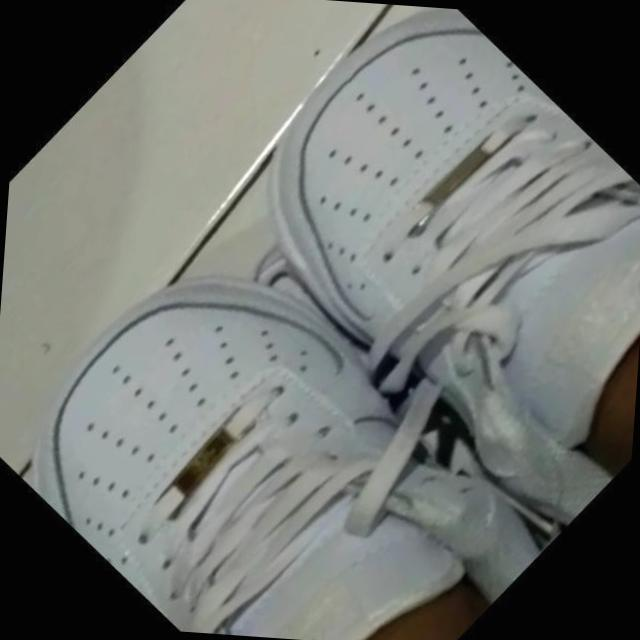nike_fake_airforce: (0, 175, 584, 640), (178, 0, 640, 544)
